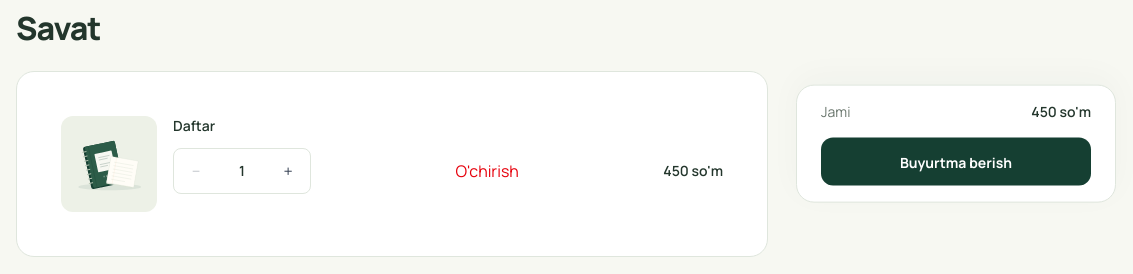
Test: cart page › allows sourcing cart quantities to grow without inventory limits
The width and height of the screenshot is (1133, 274).
Expected: the text "1" is shown, left=239, top=161, right=245, bottom=180
Click the button "+".
click(288, 171)  # box left=266, top=149, right=310, bottom=193
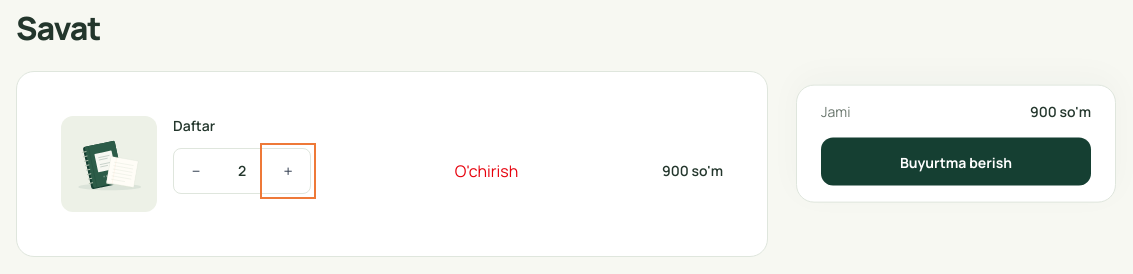
Expected: the text "2" is shown, left=238, top=161, right=246, bottom=180
